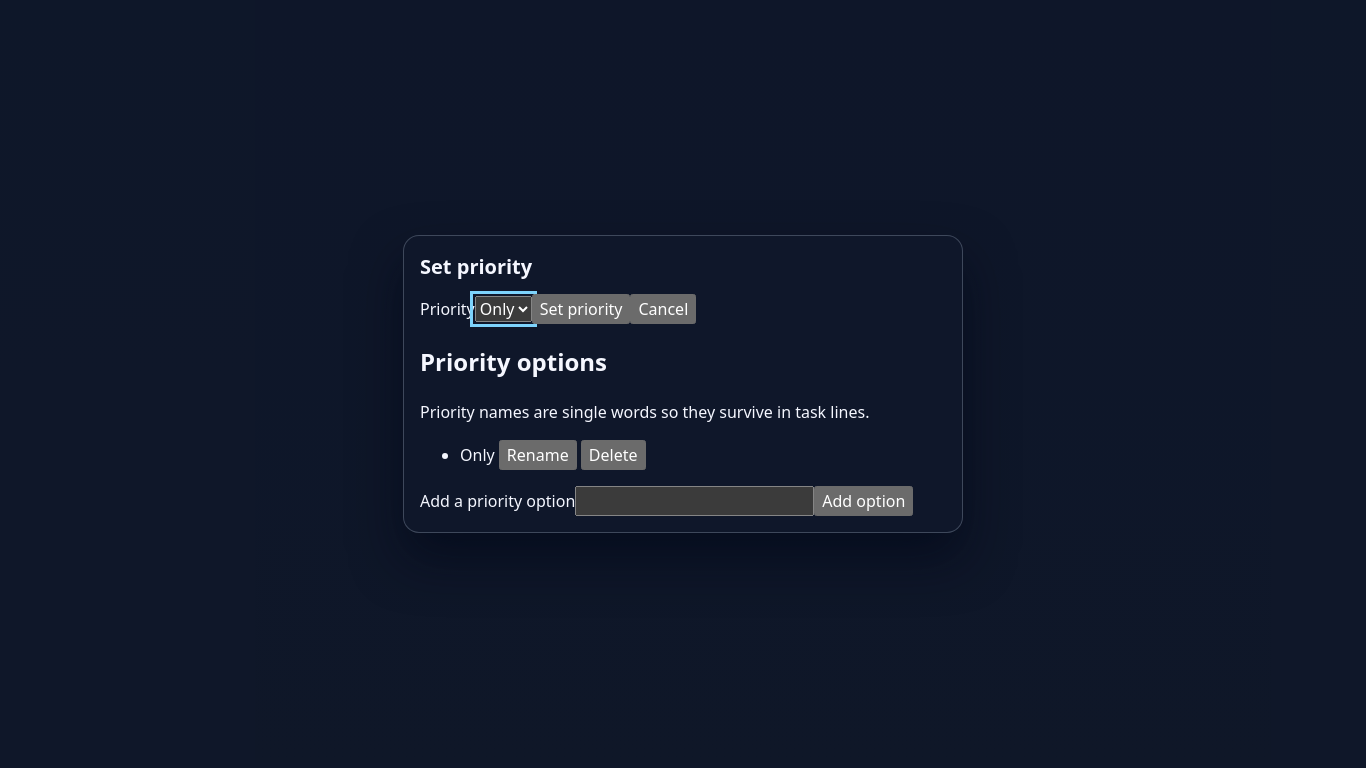
Test: task priority dialog › keeps at least one priority option
Step 1. Click the button "Delete" → (613, 455), box [581,440,646,470]
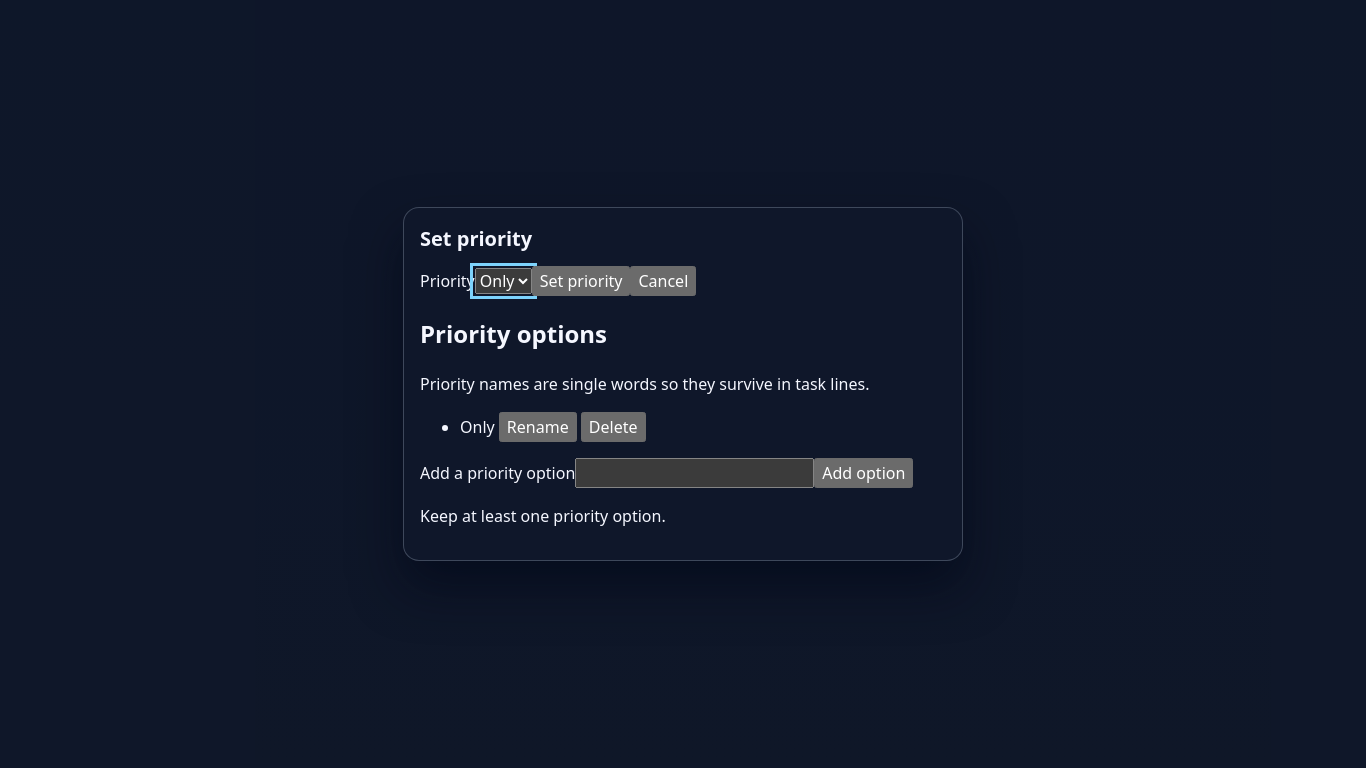
Result: the message reads "Keep at least one priority option." at [420,505,666,527]
